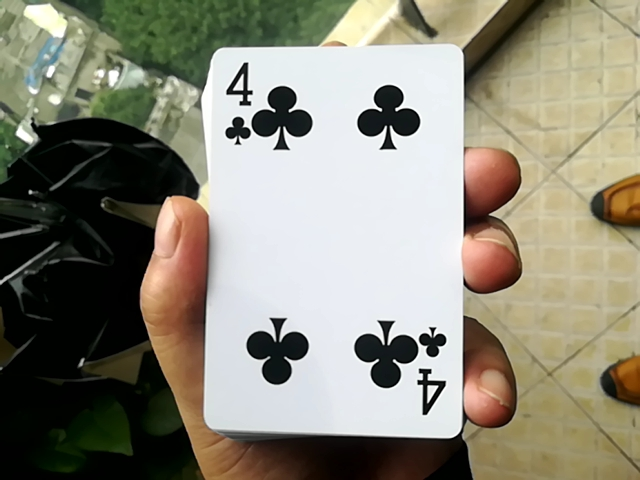mh 4: (186, 31, 467, 436)
